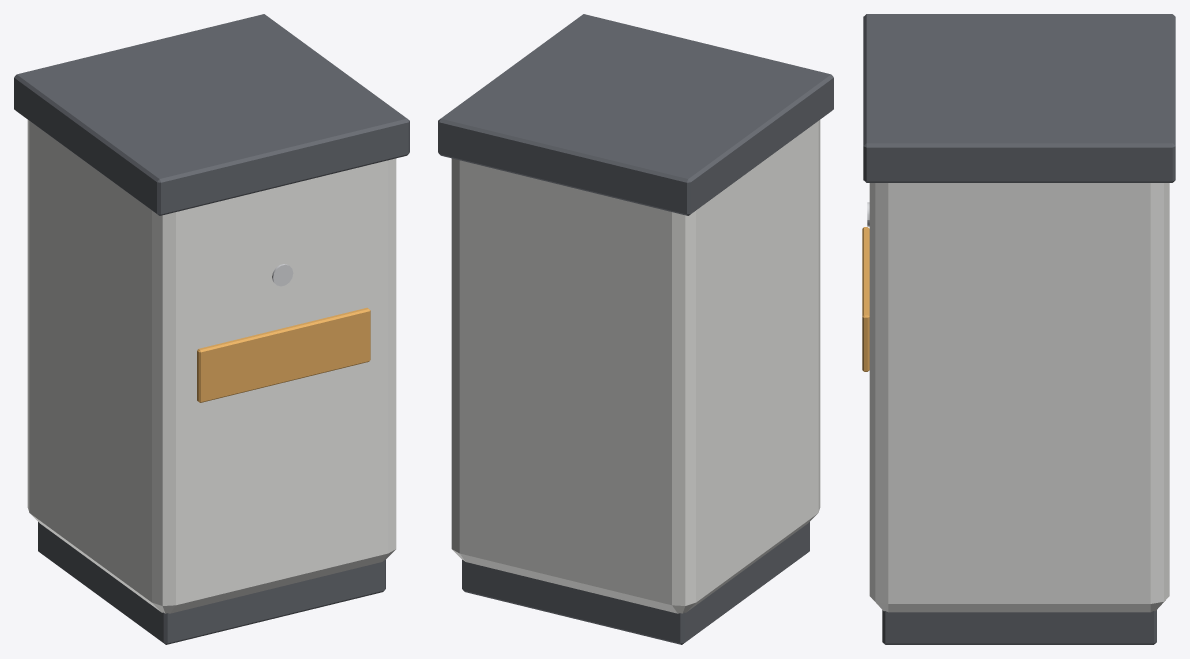
Rendered from office-lobby-and-facilities-confidential-waste-bin-40a689f4__26275.glb.
3 views of the same model, side by side, from view 1: azimuth 30°, elevation 25°; view 2: azimuth 150°, elevation 25°; view 3: azimuth 270°, elevation 25° (orthographic). The views are drawn at different scales.
Visible parts, largest first — view 1: confidential-waste-bin; view 2: confidential-waste-bin; view 3: confidential-waste-bin.
Boxes of the visible parts, x1,y1,x2,y2 form: confidential-waste-bin: (14,14,409,644); confidential-waste-bin: (438,14,833,644); confidential-waste-bin: (862,14,1175,644).
Size of the model in its own units: 0.5001 by 0.9 by 0.502.
